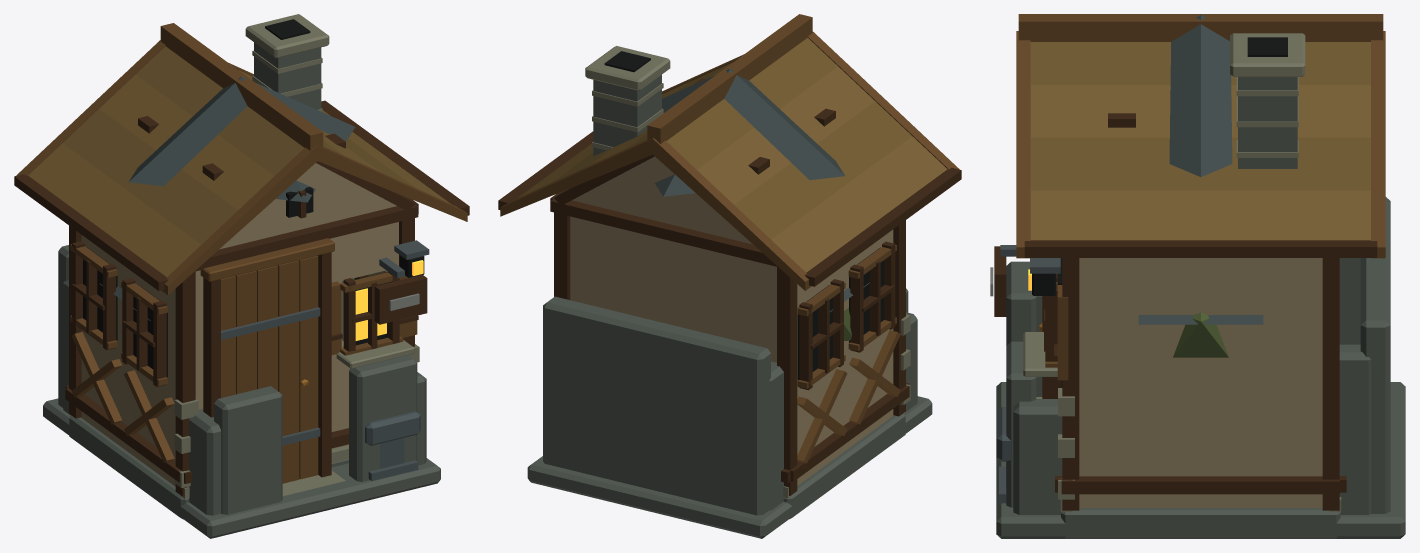
Rendered from Environment_Library.glb.
3 views of the same model, side by side, from view 1: azimuth 30°, elevation 25°; view 2: azimuth 150°, elevation 25°; view 3: azimuth 270°, elevation 25° (orthographic). The views are drawn at different scales.
Visible parts, largest first — view 1: SM_ENV_Building_01_Cottage, SM_ENV_Building_04_RuinedChapel, SM_ENV_Building_06_TimberHouse, SM_ENV_Building_05_BellTower, SM_ENV_Building_02_Smithy; view 2: SM_ENV_Building_01_Cottage, SM_ENV_Building_04_RuinedChapel, SM_ENV_Building_06_TimberHouse, SM_ENV_Building_05_BellTower; view 3: SM_ENV_Building_01_Cottage, SM_ENV_Building_04_RuinedChapel, SM_ENV_Building_05_BellTower, SM_ENV_Building_06_TimberHouse, SM_ENV_Building_02_Smithy, SM_ENV_Tree_01_Oak.
Boxes of the visible parts, box(x1,y1,x2,y2) form: SM_ENV_Building_01_Cottage: box(14, 14, 469, 519); SM_ENV_Building_04_RuinedChapel: box(43, 245, 440, 538); SM_ENV_Building_06_TimberHouse: box(30, 33, 467, 462); SM_ENV_Building_05_BellTower: box(129, 77, 355, 340); SM_ENV_Building_02_Smithy: box(365, 257, 427, 480); SM_ENV_Building_01_Cottage: box(498, 14, 961, 518); SM_ENV_Building_04_RuinedChapel: box(527, 282, 932, 538); SM_ENV_Building_06_TimberHouse: box(500, 25, 947, 463); SM_ENV_Building_05_BellTower: box(655, 69, 844, 196); SM_ENV_Building_01_Cottage: box(1016, 14, 1385, 538); SM_ENV_Building_04_RuinedChapel: box(996, 197, 1405, 538); SM_ENV_Building_05_BellTower: box(1108, 15, 1232, 176); SM_ENV_Building_06_TimberHouse: box(1018, 30, 1383, 41); SM_ENV_Building_02_Smithy: box(990, 245, 1016, 503); SM_ENV_Tree_01_Oak: box(1173, 312, 1228, 357).
Size of the model in its own units: 4.38 by 5.22 by 4.16.
